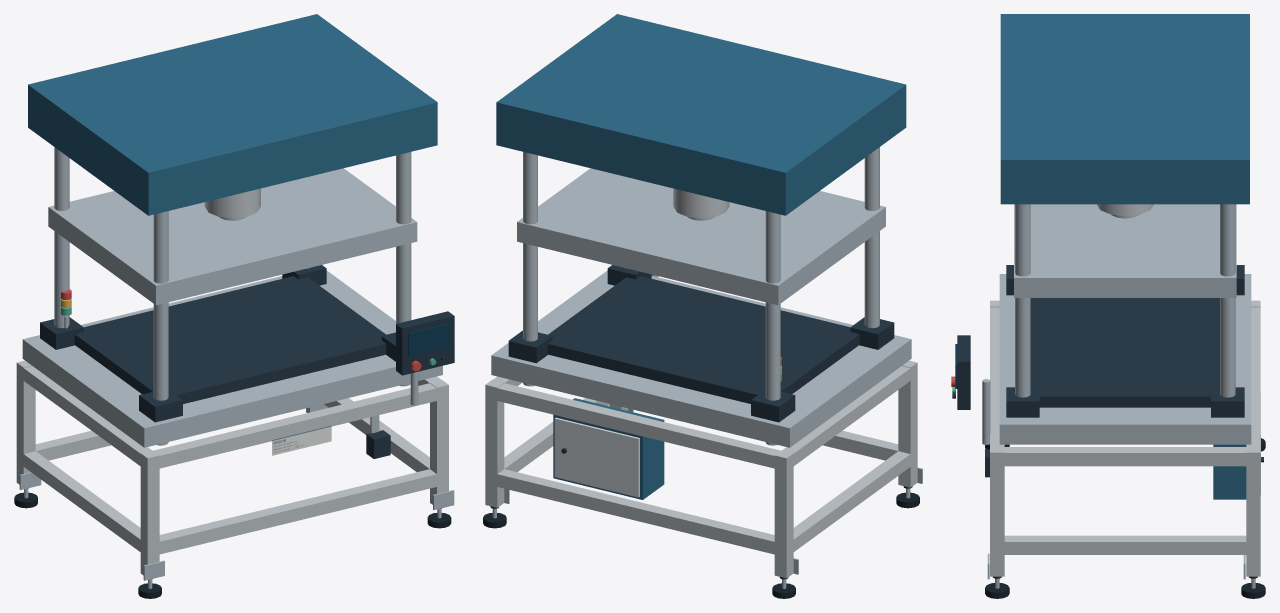
File: hydraulic-press.glb
3 views of the same model, side by side, from view 1: azimuth 30°, elevation 25°; view 2: azimuth 150°, elevation 25°; view 3: azimuth 270°, elevation 25° (orthographic). The views are drawn at different scales.
Visible parts, largest first — view 1: PressCrown_40, MovingToolPlate_42, LowerDie_44, LowerToolTable_31, Extrusion_22, Extrusion_23, Extrusion_24, GuideColumn_34, Extrusion_25, GuideColumn_38, Extrusion_8, GuideColumn_32 (+11 smaller); view 2: PressCrown_40, MovingToolPlate_42, LowerDie_44, LowerToolTable_31, Extrusion_20, Extrusion_21, BackAccessDoor_29, Extrusion_24, GuideColumn_32, Extrusion_25, GuideColumn_36, Extrusion_3 (+10 smaller); view 3: PressCrown_40, LowerDie_44, MovingToolPlate_42, LowerToolTable_31, Extrusion_27, Extrusion_26, GuideColumn_36, GuideColumn_38, Extrusion_18, Extrusion_13, Extrusion_21, Extrusion_23 (+6 smaller).
Part boxes in pixels (left/top/right/bottom): PressCrown_40: left=28, top=14, right=437, bottom=215; MovingToolPlate_42: left=48, top=168, right=417, bottom=305; LowerDie_44: left=74, top=276, right=386, bottom=403; LowerToolTable_31: left=22, top=270, right=442, bottom=447; Extrusion_22: left=153, top=469, right=436, bottom=555; Extrusion_23: left=153, top=383, right=436, bottom=469; Extrusion_24: left=20, top=451, right=142, bottom=553; GuideColumn_34: left=153, top=211, right=168, bottom=445; Extrusion_25: left=20, top=366, right=151, bottom=466; GuideColumn_38: left=396, top=152, right=411, bottom=386; Extrusion_8: left=140, top=450, right=159, bottom=575; GuideColumn_32: left=54, top=147, right=69, bottom=328; PressCrown_40: left=496, top=14, right=906, bottom=215; MovingToolPlate_42: left=517, top=168, right=885, bottom=305; LowerDie_44: left=547, top=276, right=859, bottom=403; LowerToolTable_31: left=491, top=270, right=911, bottom=447; Extrusion_20: left=491, top=469, right=774, bottom=554; Extrusion_21: left=497, top=383, right=780, bottom=468; BackAccessDoor_29: left=554, top=417, right=639, bottom=497; Extrusion_24: left=790, top=451, right=910, bottom=554; GuideColumn_32: left=765, top=211, right=780, bottom=445; Extrusion_25: left=782, top=366, right=910, bottom=468; GuideColumn_36: left=523, top=152, right=537, bottom=386; Extrusion_3: left=774, top=450, right=793, bottom=578; PressCrown_40: left=1000, top=14, right=1249, bottom=204; LowerDie_44: left=1030, top=298, right=1219, bottom=407; MovingToolPlate_42: left=1014, top=204, right=1236, bottom=297; LowerToolTable_31: left=999, top=274, right=1251, bottom=444; Extrusion_27: left=997, top=447, right=1253, bottom=466; Extrusion_26: left=1004, top=535, right=1246, bottom=554; GuideColumn_36: left=1220, top=204, right=1235, bottom=397; GuideColumn_38: left=1015, top=204, right=1030, bottom=397; Extrusion_18: left=990, top=446, right=1004, bottom=576; Extrusion_13: left=1246, top=446, right=1260, bottom=576; Extrusion_21: left=1246, top=307, right=1260, bottom=446; Extrusion_23: left=990, top=307, right=1004, bottom=446.
Bounding box in the file's own units: 1.66 × 2.15 × 1.41.
11 materials, 1 textured.
